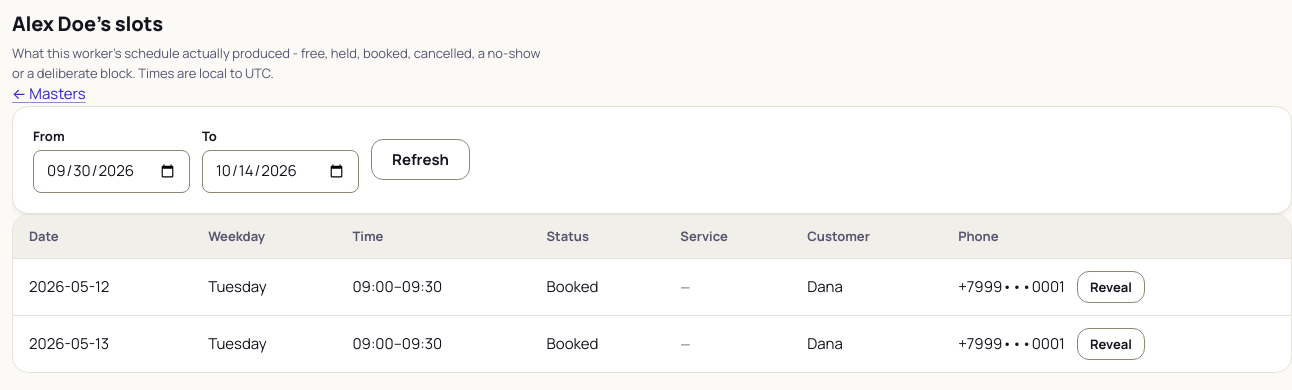
Scenario: revealing a masked phone (23-30) › replaces every row for that person with the server's own unmasked response on Reveal
The width and height of the screenshot is (1292, 390).
Click the button "Reveal" in the row of "2026-05-12" at [1111, 287], box [1077,271,1145,303]
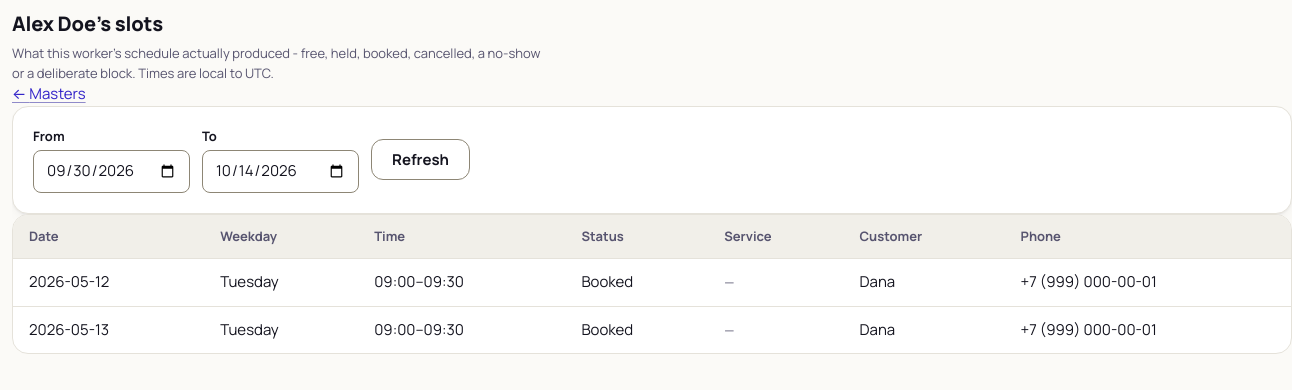
Check: the text "+7999•••0001" is gone
